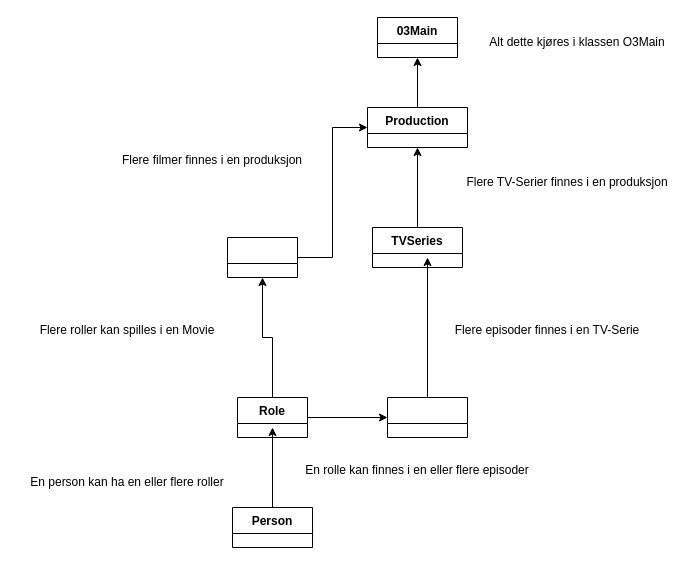
Some shapes in this 694 by 565 pixel diagram are drawn without their labels. The shapes that lost their labels are listed below. From the top down, each one's centre as x and y in pixels, then its label:
At pixel 262 257: "Movie".
At pixel 427 417: "Episode".
